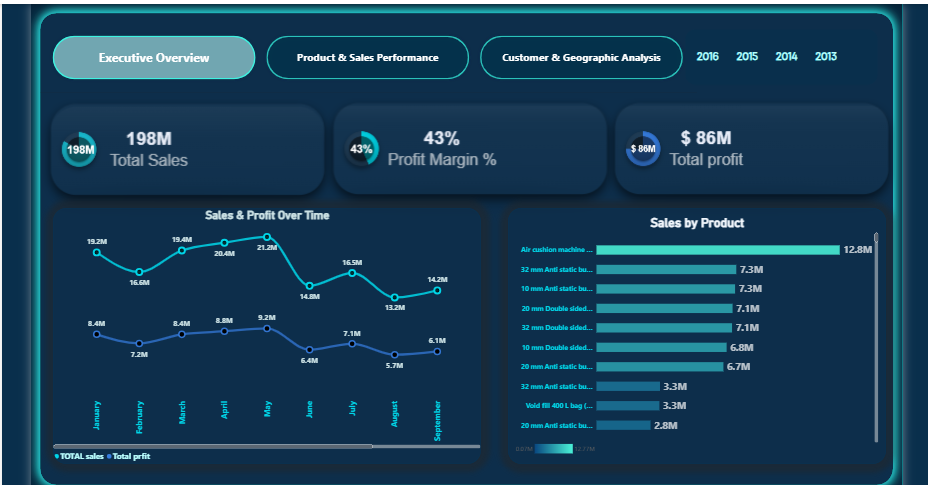

The page's visual inventory and layout, read from the dashboard file:
{"tool":"powerbi","page":{"name":"Executive Overview","canvas":[1920,1080],"ordinal":0},"visuals":[{"type":"shape","box":[0,0,1920,1080],"z":0},{"type":"pageNavigator","box":[19.3,41,1447.5,152.5],"z":1000},{"type":"STANDALONEhtmlContent443BE3AD55E043BF878BED274D3A6855","fields":{"content":["HTML.HTML_Green_Card_Dynamic-"]},"box":[0,190.6,685,349.7],"z":2000},{"type":"nexoraButtonSlicer74A92BB1DAE480BBC09C4B425BA7007","fields":{"category":["DimDate.CalendarYear"]},"box":[1425.5,41,456.4,152.1],"z":3000},{"type":"STANDALONEhtmlContent443BE3AD55E043BF878BED274D3A6855","fields":{"content":["HTML.HTML_ProfitMargin_Card-"]},"box":[559.6,193,815.3,289.4],"z":4000},{"type":"STANDALONEhtmlContent443BE3AD55E043BF878BED274D3A6855","fields":{"content":["HTML.HTML_Total prfit"]},"box":[1256.7,193,663.3,289.4],"z":6000},{"type":"clusteredBarChart","title":"Sales by Product","fields":{"Category":["DimProduct.ProductName"],"Y":["FactSales.TOTAL sales"]},"box":[1051.3,449.6,833.1,564.2],"z":7000},{"type":"lineChart","title":"Sales & Profit Over Time","fields":{"Category":["DimDate.FullDate.Variation.Date Hierarchy.Year","DimDate.FullDate.Variation.Date Hierarchy.Quarter","DimDate.FullDate.Variation.Date Hierarchy.Month","DimDate.FullDate.Variation.Date Hierarchy.Day"],"Y":["FactSales.TOTAL sales","FactSales.Total prfit"]},"box":[48.5,449.6,943.3,564.2],"z":8500}]}

Visuals, with their boxes on the page's 1920x1080 design canvas (x1, y1, x2, y2). These are canvas units, not pixel positions in the 928x485 screenshot, which may show the page scaled, cropped or inside an application window:
shape: box=[0, 0, 1920, 1080]
pageNavigator: box=[19, 41, 1467, 194]
STANDALONEhtmlContent443BE3AD55E043BF878BED274D3A6855 - HTML.HTML_Green_Card_Dynamic-: box=[0, 191, 685, 540]
nexoraButtonSlicer74A92BB1DAE480BBC09C4B425BA7007 - DimDate.CalendarYear: box=[1426, 41, 1882, 193]
STANDALONEhtmlContent443BE3AD55E043BF878BED274D3A6855 - HTML.HTML_ProfitMargin_Card-: box=[560, 193, 1375, 482]
STANDALONEhtmlContent443BE3AD55E043BF878BED274D3A6855 - HTML.HTML_Total prfit: box=[1257, 193, 1920, 482]
"Sales by Product" clusteredBarChart: box=[1051, 450, 1884, 1014]
"Sales & Profit Over Time" lineChart: box=[48, 450, 992, 1014]
